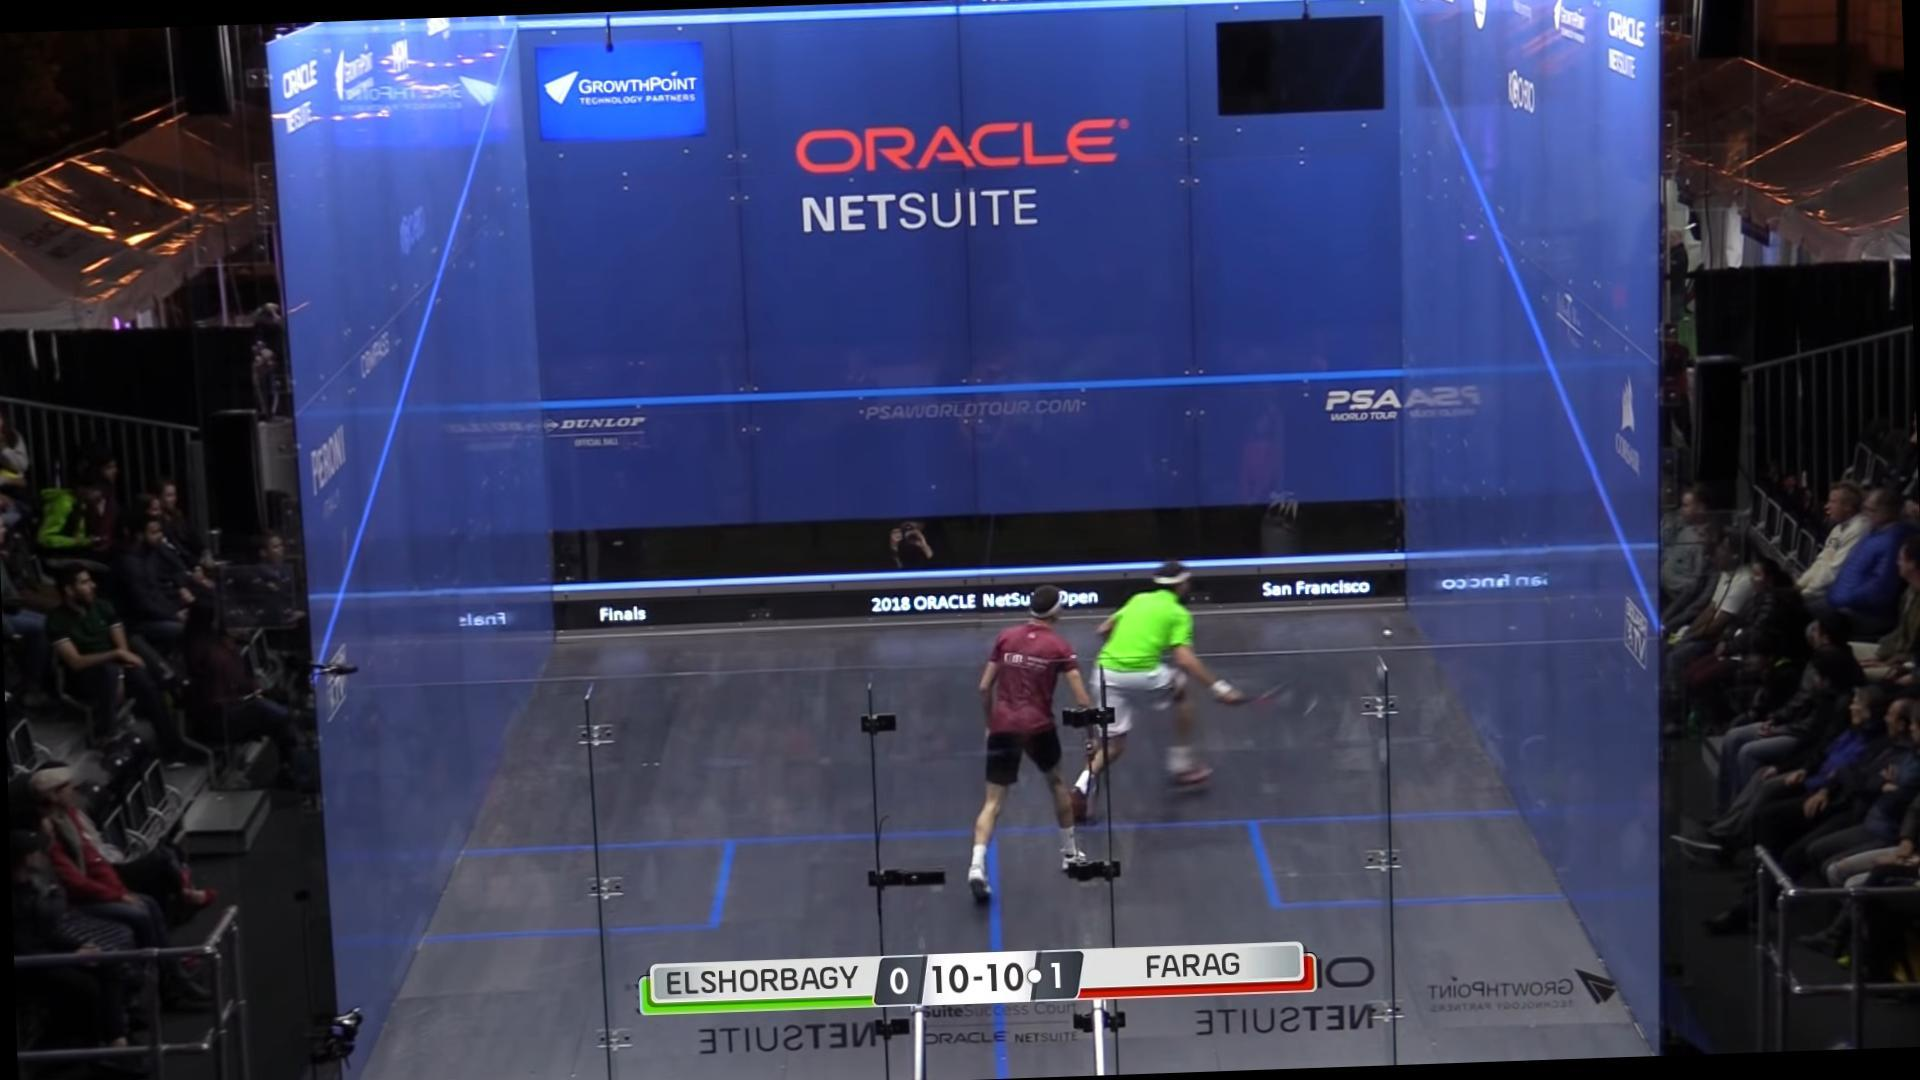Squash-Ball: (1373, 620, 1400, 646)
